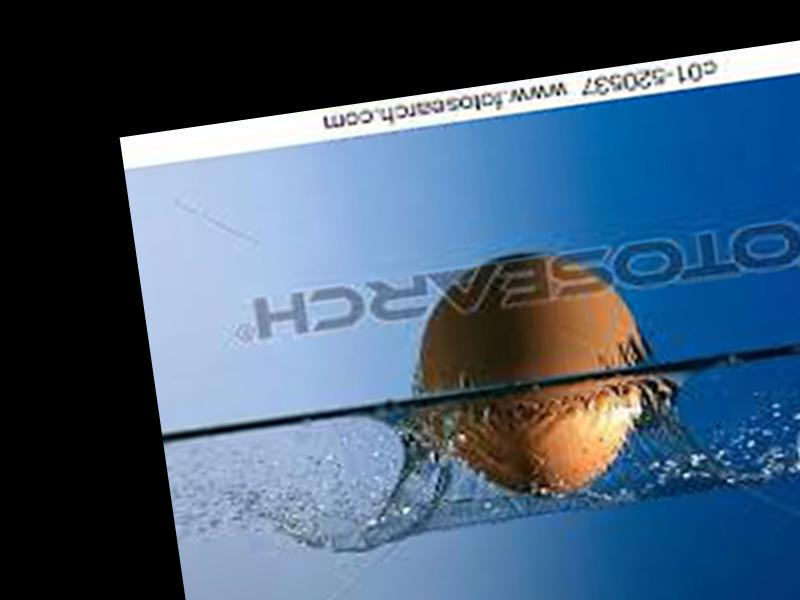Eggs: (404, 242, 661, 514)
